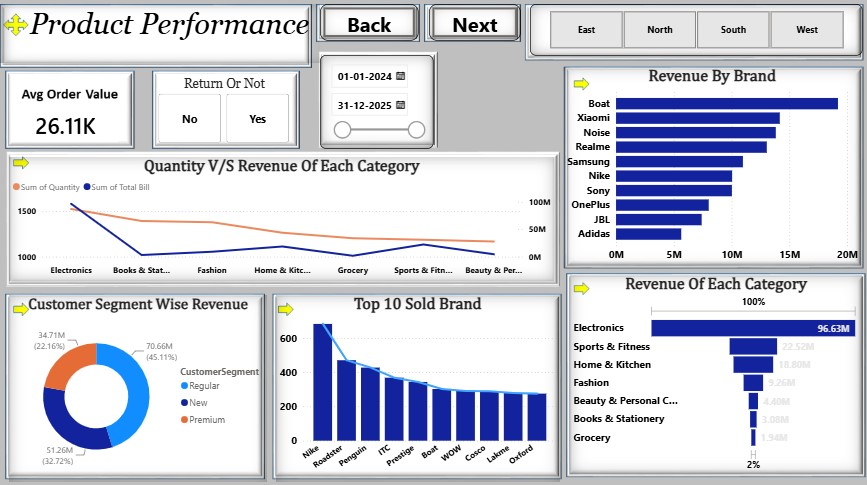

What the dashboard file says about the page in this screenshot:
{"tool":"powerbi","page":{"name":"Page 2","canvas":[1280,720],"ordinal":1},"visuals":[{"type":"clusteredBarChart","title":"Revenue By Brand","fields":{"Category":["Dim_Products.Brand"],"Y":["Sum(Fact_Orders.Total Bill)"]},"box":[831.3,100.5,439.1,295.9],"z":0},{"type":"funnel","title":"Revenue Of Each Category ","fields":{"Category":["Dim_Products.Category"],"Y":["Sum(Fact_Orders.Total Bill)"]},"box":[840.9,406,429.4,293.2],"z":1000},{"type":"textbox","box":[0,6.9,473.5,86.7],"z":2000},{"type":"lineStackedColumnComboChart","title":"Top 10 Sold Brand","fields":{"Category":["Dim_Products.Brand"],"Y":["Sum(Fact_Orders.Quantity)"],"Y2":["Sum(Fact_Orders.Quantity)"]},"box":[408.8,434.9,417,275.3],"z":3000},{"type":"lineChart","title":"Quantity V/S Revenue Of Each Category","fields":{"Category":["Dim_Products.Category"],"Y":["Sum(Fact_Orders.Quantity)"],"Y2":["Sum(Fact_Orders.Total Bill)"]},"box":[16.5,232.6,802.4,181.7],"z":4000},{"type":"donutChart","title":" Customer Segment Wise Revenue","fields":{"Category":["Dim_Customers.CustomerSegment"],"Y":["Sum(Fact_Orders.Total Bill)"]},"box":[16.5,434.9,379.9,275.3],"z":5000},{"type":"cardVisual","fields":{"Data":["Fact_Orders.Avg_Order_Value"]},"box":[16.5,151.4,166.5,64.7],"z":6000},{"type":"actionButton","box":[633.1,6.9,134.6,53.9],"z":7000},{"type":"actionButton","box":[473.5,6.9,144.5,53.7],"z":8000},{"type":"advancedSlicerVisual","title":"Return Or Not","fields":{"Values":["Fact_Orders.ReturnFlag"]},"box":[231.2,112.9,203.7,103.2],"z":9000},{"type":"slicer","fields":{"Values":["Dim_Date.Date"]},"box":[473.5,82.6,166.5,137.6],"z":10000},{"type":"slicer","fields":{"Values":["Dim_Warehouse.Region"]},"box":[781.8,6.9,488.6,75.7],"z":11000}]}

Visuals, with their boxes in screenshot pixels (x1, y1, x2, y2), scaled from the page's 1280x720 canvas onto the 867x485 screenshot:
"Revenue By Brand" clusteredBarChart: BBox(563, 68, 860, 267)
"Revenue Of Each Category " funnel: BBox(570, 273, 860, 471)
textbox: BBox(0, 5, 321, 63)
"Top 10 Sold Brand" lineStackedColumnComboChart: BBox(277, 293, 559, 478)
"Quantity V/S Revenue Of Each Category" lineChart: BBox(11, 157, 555, 279)
" Customer Segment Wise Revenue" donutChart: BBox(11, 293, 268, 478)
cardVisual - Fact_Orders.Avg_Order_Value: BBox(11, 102, 124, 146)
actionButton: BBox(429, 5, 520, 41)
actionButton: BBox(321, 5, 419, 41)
"Return Or Not" advancedSlicerVisual: BBox(157, 76, 295, 146)
slicer - Dim_Date.Date: BBox(321, 56, 434, 148)
slicer - Dim_Warehouse.Region: BBox(530, 5, 860, 56)
